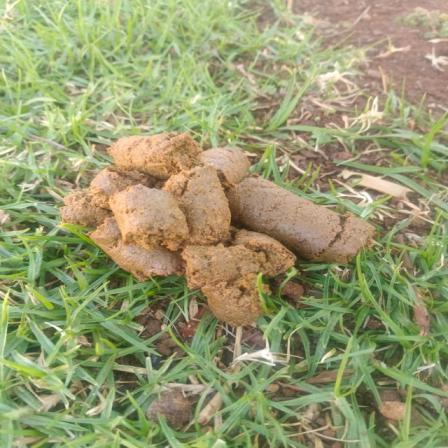dog-poop: (50, 116, 376, 333)
